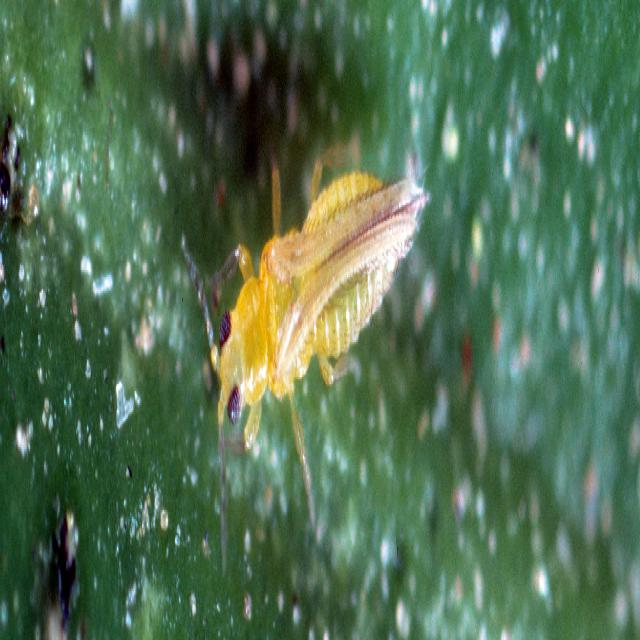Thrip-Adult-: (187, 106, 443, 492)
